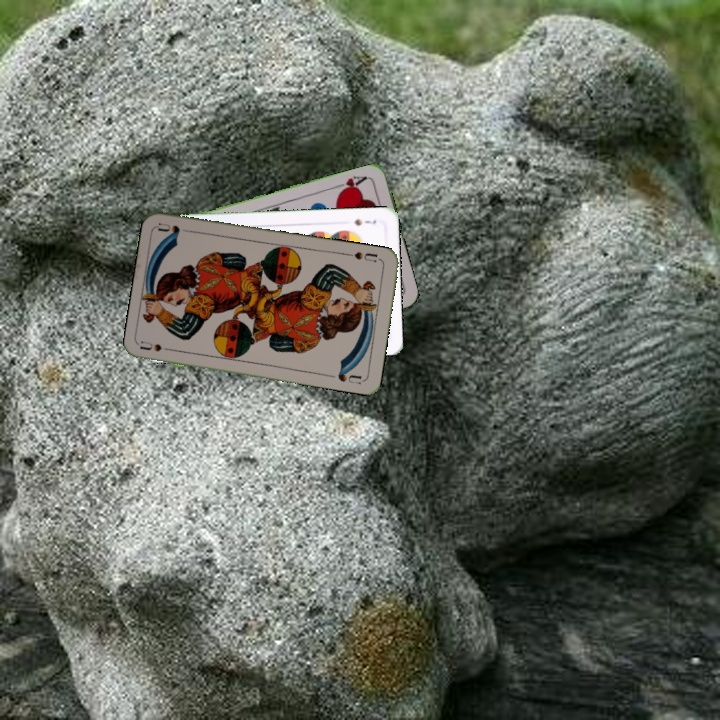HA: (331, 171, 371, 196)
S7: (350, 215, 378, 228)
SU: (138, 337, 178, 354), (343, 248, 383, 264)
